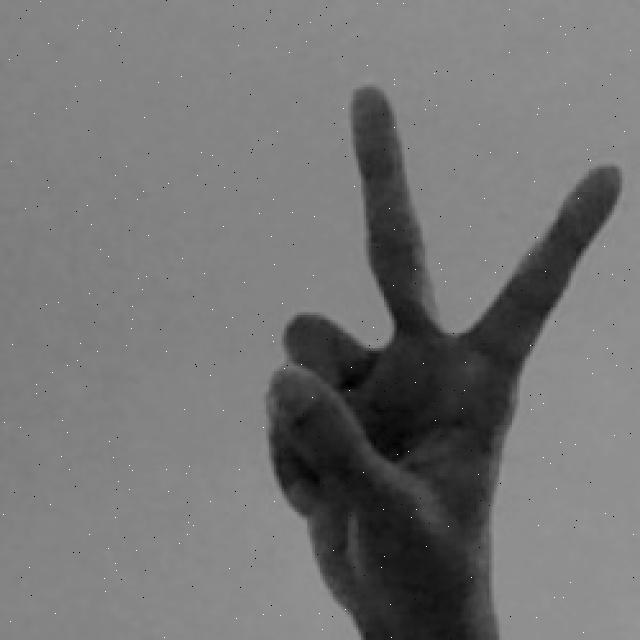V: (255, 78, 628, 640)
